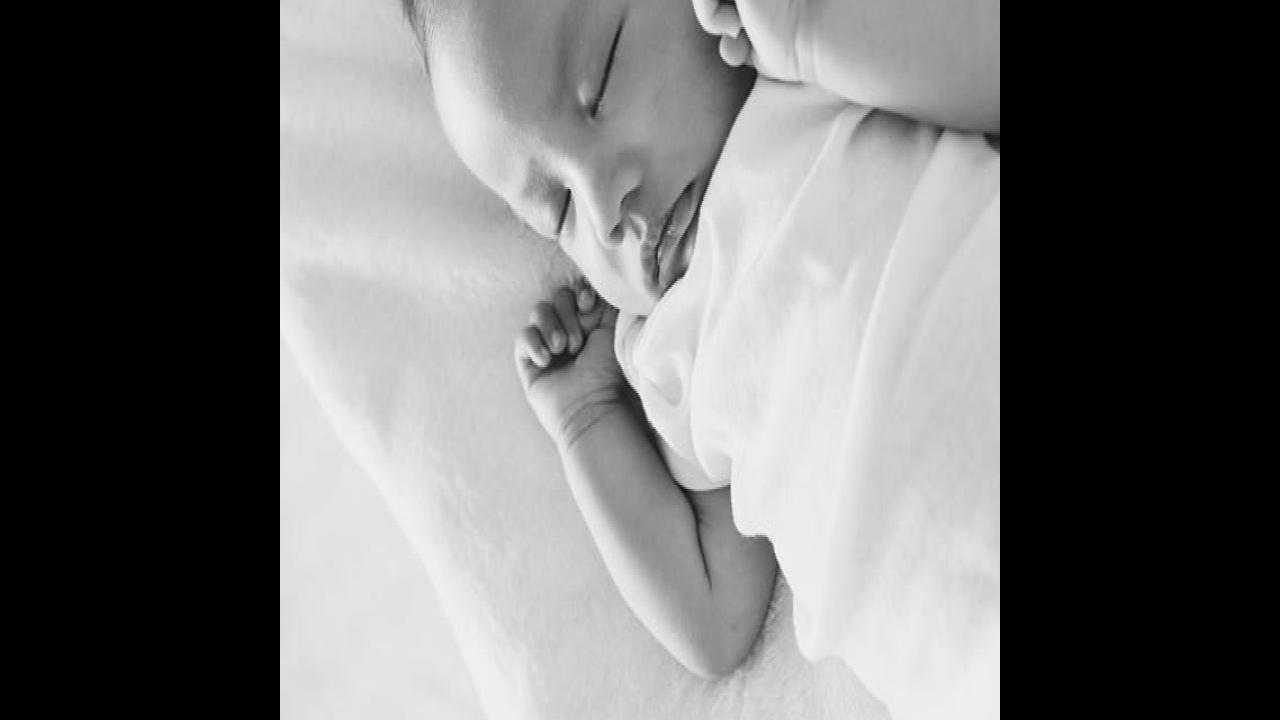hand: (516, 284, 620, 432), (689, 0, 804, 76)
